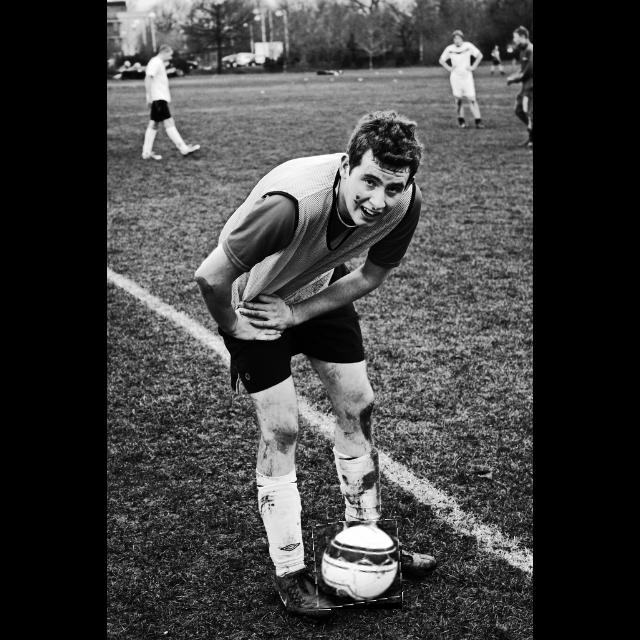Football: (314, 521, 402, 609)
